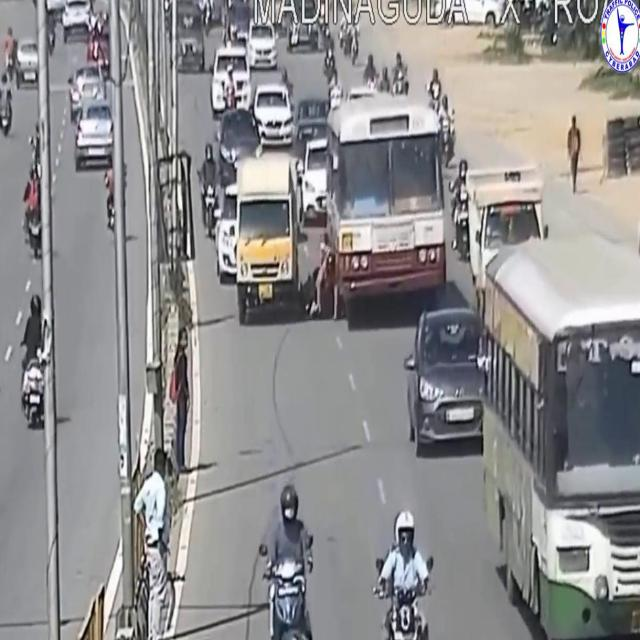accident: (234, 73, 442, 327)
non_accident: (403, 153, 640, 640), (164, 0, 294, 153), (51, 0, 113, 186)
